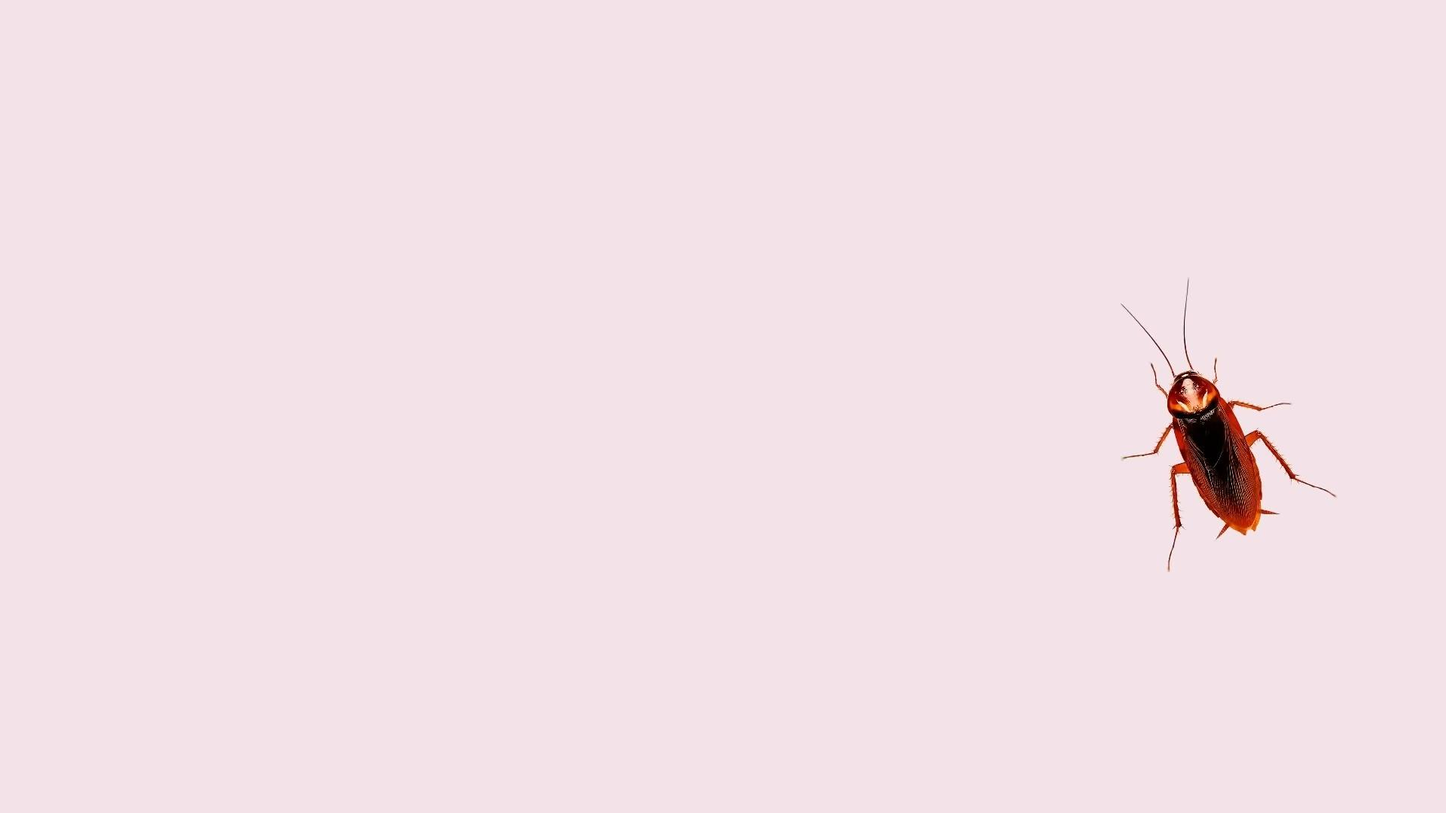cockroach: (1109, 294, 1299, 557)
